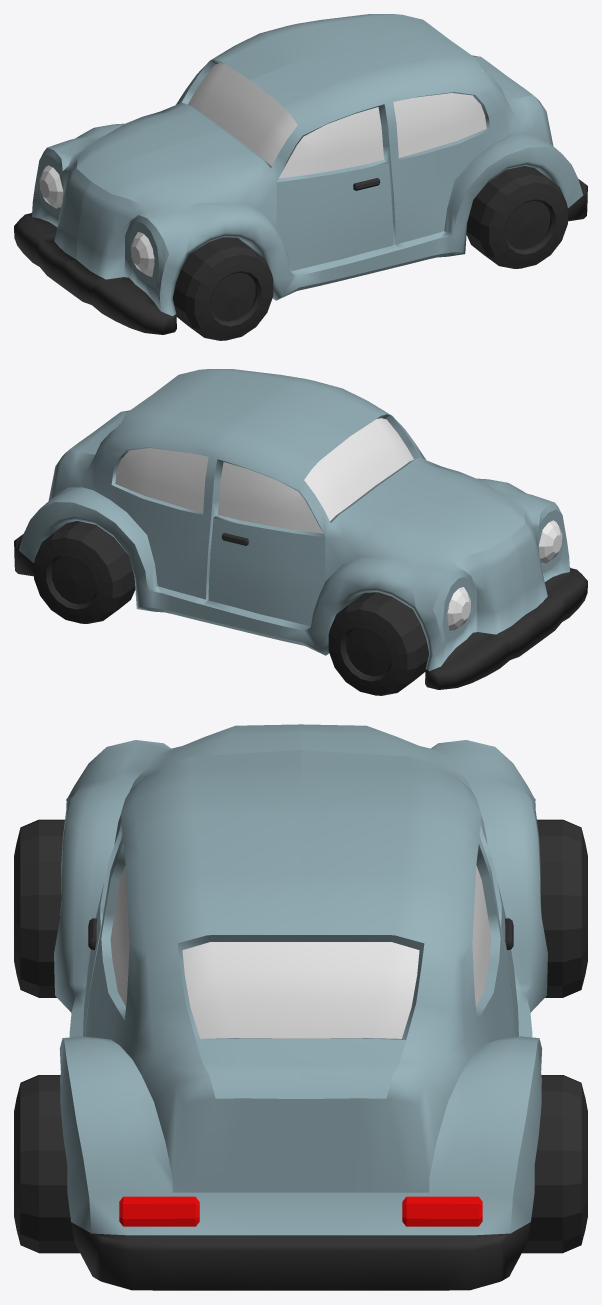
File: Car.fbx
The picture shows the model from 3 angles, top to bottom: view 1: azimuth 30°, elevation 25°; view 2: azimuth 150°, elevation 25°; view 3: azimuth 270°, elevation 25°; orthographic projection. The views are drawn at different scales.
Visible parts, largest first — view 1: CarBody, Wheel_FL, Wheel_BL, Headlights; view 2: CarBody, Wheel_FR, Wheel_BR, Headlights; view 3: CarBody, Wheel_BR, Wheel_BL, Wheel_FR, Wheel_FL, Backlights.
Part boxes in pixels (left/top/right/bottom): CarBody: left=14, top=14, right=587, bottom=334; Wheel_FL: left=172, top=237, right=273, bottom=340; Wheel_BL: left=466, top=166, right=567, bottom=268; Headlights: left=39, top=165, right=154, bottom=275; CarBody: left=14, top=369, right=587, bottom=689; Wheel_FR: left=328, top=592, right=429, bottom=695; Wheel_BR: left=34, top=521, right=135, bottom=623; Headlights: left=447, top=520, right=562, bottom=630; CarBody: left=54, top=724, right=547, bottom=1290; Wheel_BR: left=522, top=1075, right=587, bottom=1253; Wheel_BL: left=14, top=1075, right=79, bottom=1253; Wheel_FR: left=537, top=819, right=587, bottom=997; Wheel_FL: left=14, top=819, right=64, bottom=997; Backlights: left=119, top=1196, right=482, bottom=1226.
Bounding box in the file's own units: 652 × 250 × 383.
